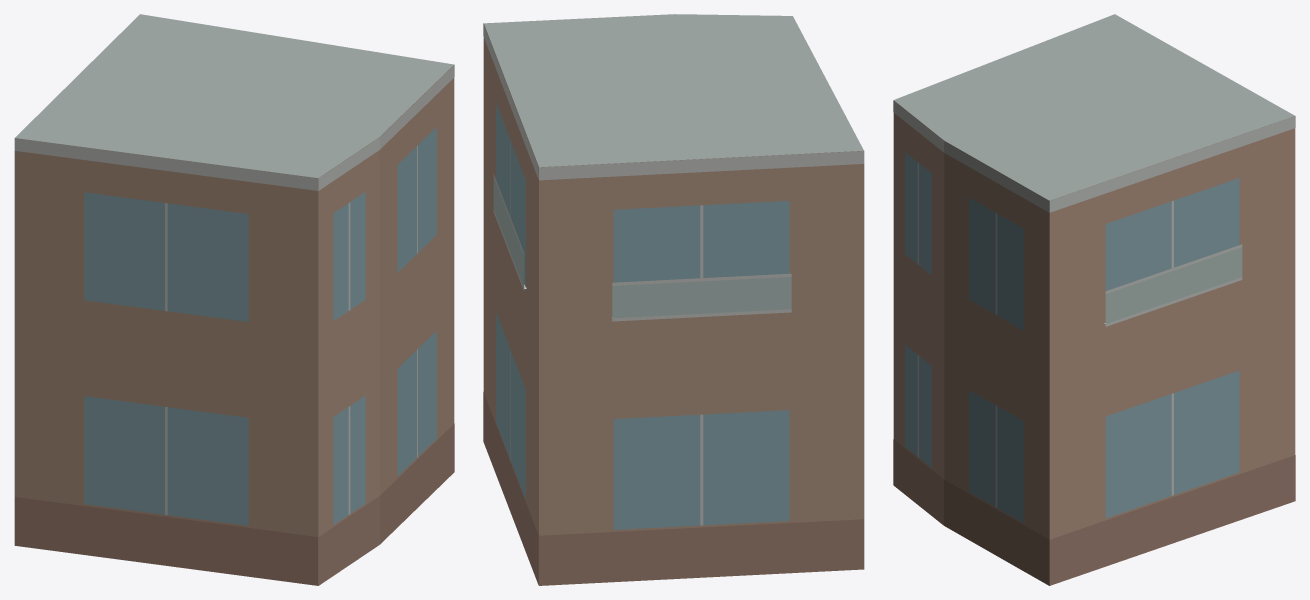
File: survey-upis-33031326.glb
3 renders of one model, left to right at view 1: azimuth 30°, elevation 25°; view 2: azimuth 150°, elevation 25°; view 3: azimuth 270°, elevation 25°, orthographic. The views are drawn at different scales.
Parts seen in each view (by area): view 1: survey-upis-33031326.tmp; view 2: survey-upis-33031326.tmp; view 3: survey-upis-33031326.tmp.
Part boxes in pixels (x1,y1,x2,y2): survey-upis-33031326.tmp: (14,14,454,585); survey-upis-33031326.tmp: (483,14,864,585); survey-upis-33031326.tmp: (893,14,1295,585).
Size of the model in its own units: 8.07 by 7.75 by 7.34.
